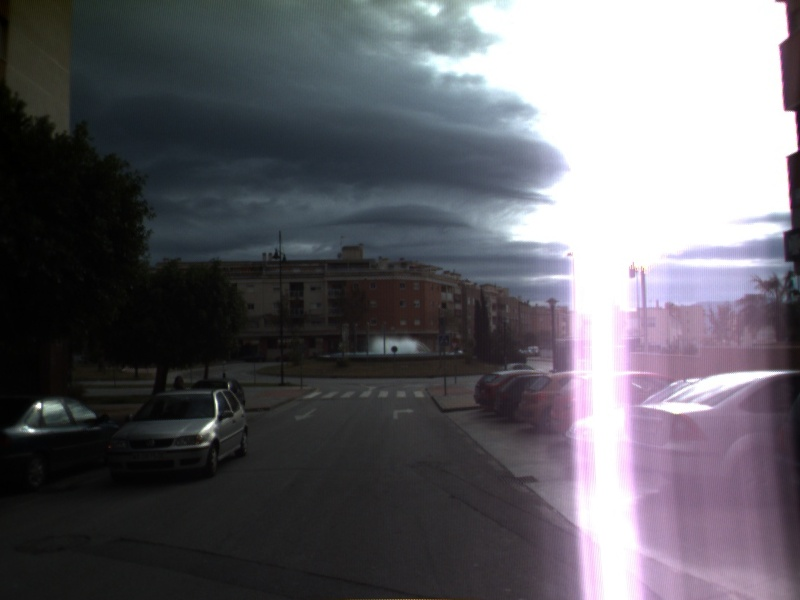RIGHT: (390, 405, 416, 421)
